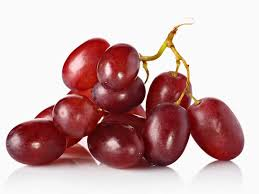anggur: (5, 34, 247, 175)
